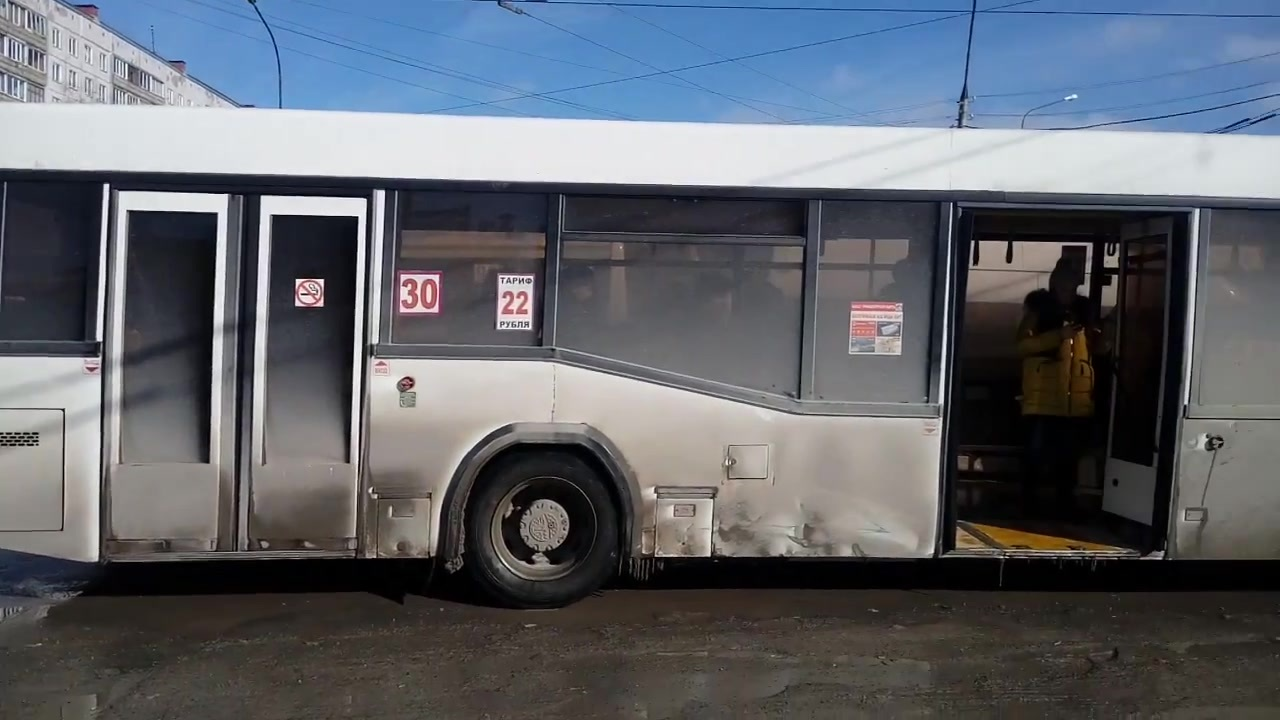bus: (5, 87, 1274, 644)
closed_door: (92, 178, 360, 593)
number: (393, 269, 440, 318)
opened_door: (940, 186, 1189, 580)
